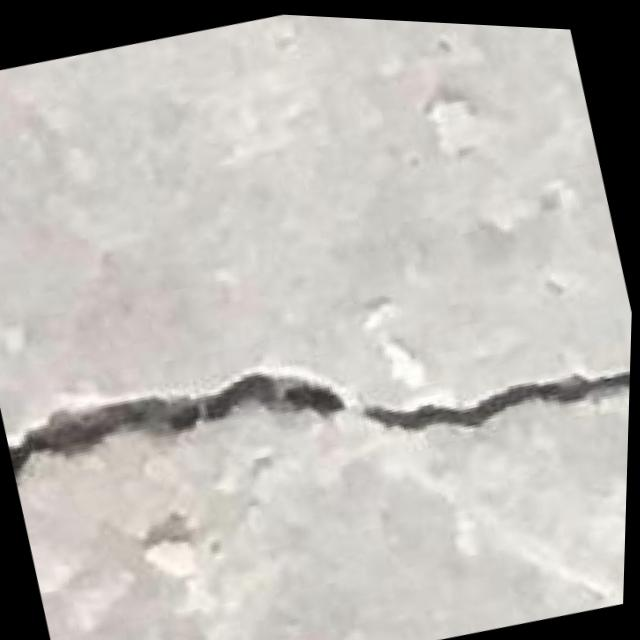Crack: (0, 233, 635, 554)
